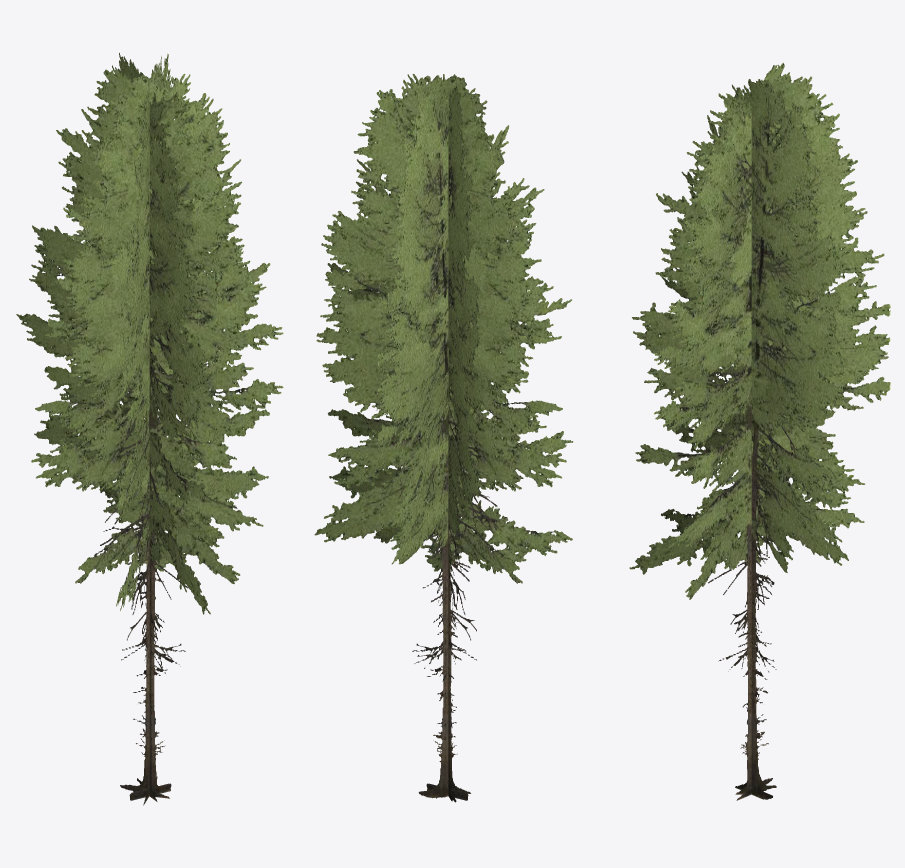
The model's file is fir_a_bb.glb.
3 views of the same model, side by side, from view 1: azimuth 30°, elevation 25°; view 2: azimuth 150°, elevation 25°; view 3: azimuth 270°, elevation 25° (orthographic).
Visible parts, largest first — view 1: fir_a_billboard; view 2: fir_a_billboard; view 3: fir_a_billboard.
Part boxes in pixels (left/top/right/bottom): fir_a_billboard: left=16, top=53, right=283, bottom=805; fir_a_billboard: left=314, top=74, right=573, bottom=802; fir_a_billboard: left=629, top=62, right=890, bottom=800.
Size of the model in its own units: 6.6 by 18.88 by 6.6.
1 material, 1 textured.
